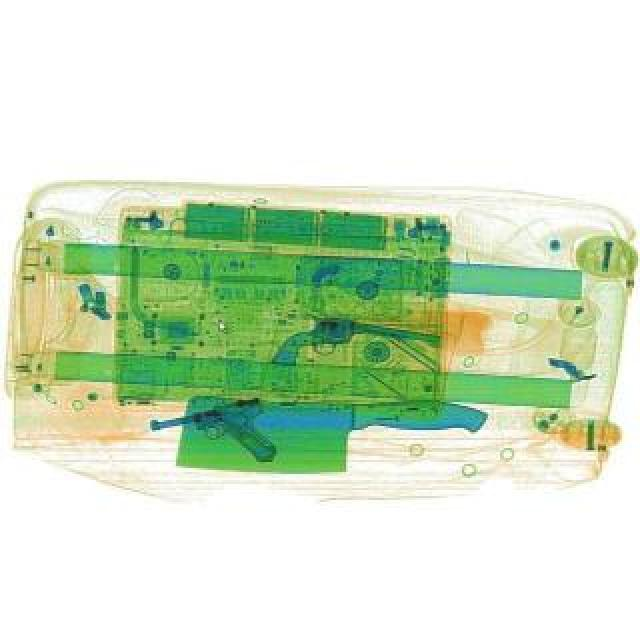gun: (268, 308, 438, 390), (148, 392, 278, 484)
knife: (176, 390, 488, 482)
